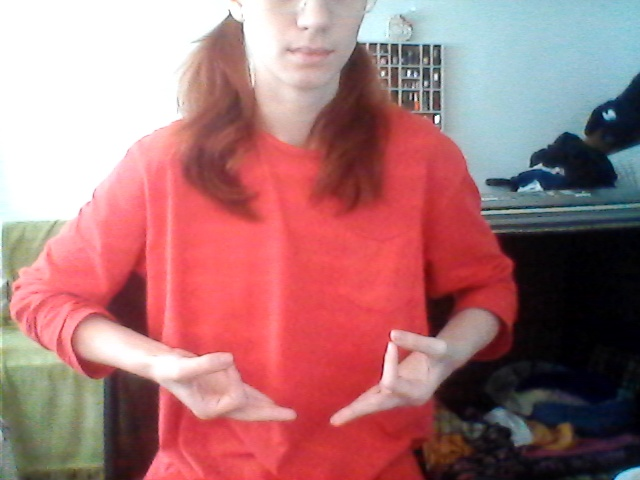preco: (161, 312, 471, 441)
